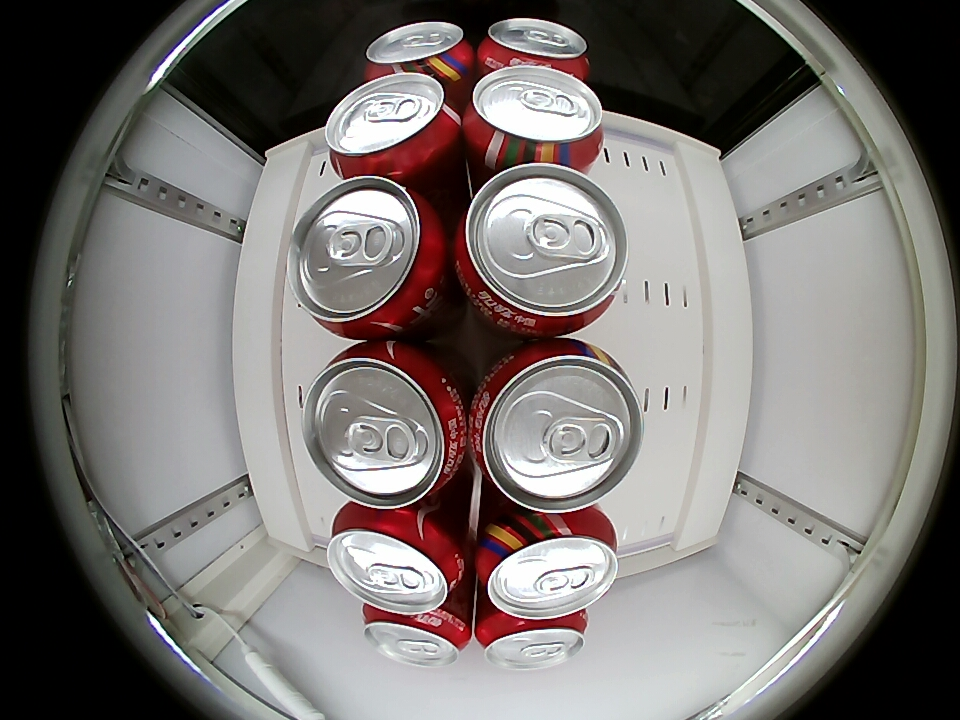kele: (452, 163, 629, 337), (469, 339, 644, 513), (302, 341, 468, 508), (291, 177, 450, 339), (477, 510, 620, 621), (327, 507, 463, 614), (465, 64, 606, 167), (324, 72, 461, 178), (477, 18, 590, 79), (475, 613, 587, 671), (363, 608, 471, 668), (365, 21, 474, 80)
